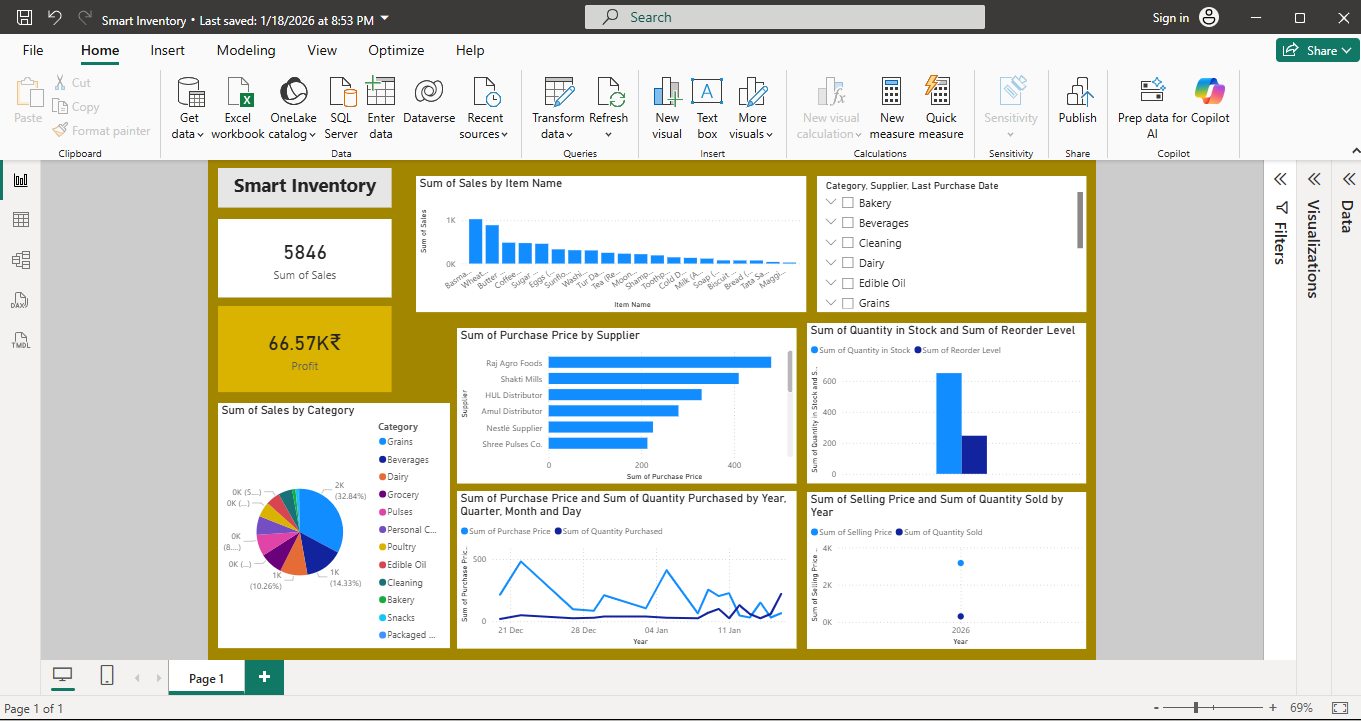

The page's visual inventory and layout, read from the dashboard file:
{"tool":"powerbi","page":{"name":"Page 1","canvas":[1280,720],"ordinal":0},"visuals":[{"type":"barChart","fields":{"Y":["Sum(Inventory Master.Purchase Price)"],"Category":["Inventory Master.Supplier"]},"box":[358.5,241.5,488.8,223.9],"z":0},{"type":"pieChart","fields":{"Y":["Sum(Inventory Master.total selse )"],"Category":["Inventory Master.Category"]},"box":[14.6,349.8,333.7,352.7],"z":1000},{"type":"lineStackedColumnComboChart","fields":{"Y":["Sum(Inventory Master.total selse )"],"Category":["Inventory Master.Item Name"]},"box":[300,23.4,562,196.1],"z":2000},{"type":"card","fields":{"Values":["Sum(Inventory Master.total selse )"]},"box":[14.6,84.9,250.2,112.7],"z":3000},{"type":"lineClusteredColumnComboChart","fields":{"Y":["Sum(Inventory Master.Quantity in Stock)","Sum(Inventory Master.Reorder Level)"]},"box":[862,234.1,402.4,231.2],"z":4000},{"type":"slicer","fields":{"Values":["Inventory Master.Category","Inventory Master.Supplier","Inventory Master.Last Purchase Date"]},"box":[876.6,23.4,387.8,196.1],"z":5000},{"type":"card","fields":{"Values":["Inventory Master.Profit"]},"box":[14.6,210.7,250.2,124.4],"z":6000},{"type":"lineChart","fields":{"Y":["Sum(Stock in.Purchase Price)","Sum(Stock in.Quantity Purchased)"],"Category":["Stock in.Date.Variation.Date Hierarchy.Year","Stock in.Date.Variation.Date Hierarchy.Quarter","Stock in.Date.Variation.Date Hierarchy.Month","Stock in.Date.Variation.Date Hierarchy.Day"]},"box":[358.5,477.1,488.8,226.8],"z":7000},{"type":"lineChart","fields":{"Category":["Stock out.Date.Variation.Date Hierarchy.Year","Stock out.Date.Variation.Date Hierarchy.Quarter","Stock out.Date.Variation.Date Hierarchy.Month","Stock out.Date.Variation.Date Hierarchy.Day"],"Y":["Sum(Stock out.Selling Price)","Sum(Stock out.Quantity Sold)"]},"box":[862.6,478.1,401.8,226.1],"z":8000},{"type":"textbox","box":[14.6,11.7,250.2,57.1],"z":9000}]}

Visuals, with their boxes on the page's 1280x720 design canvas (x1, y1, x2, y2). These are canvas units, not pixel positions in the 1361x721 screenshot, which may show the page scaled, cropped or inside an application window:
barChart - Sum(Inventory Master.Purchase Price) x Inventory Master.Supplier: 358, 242, 847, 465
pieChart - Sum(Inventory Master.total selse ) x Inventory Master.Category: 15, 350, 348, 702
lineStackedColumnComboChart - Sum(Inventory Master.total selse ) x Inventory Master.Item Name: 300, 23, 862, 220
card - Sum(Inventory Master.total selse ): 15, 85, 265, 198
lineClusteredColumnComboChart - Sum(Inventory Master.Quantity in Stock) x Sum(Inventory Master.Reorder Level): 862, 234, 1264, 465
slicer - Inventory Master.Category x Inventory Master.Supplier: 877, 23, 1264, 220
card - Inventory Master.Profit: 15, 211, 265, 335
lineChart - Sum(Stock in.Purchase Price) x Sum(Stock in.Quantity Purchased): 358, 477, 847, 704
lineChart - Stock out.Date.Variation.Date Hierarchy.Year x Stock out.Date.Variation.Date Hierarchy.Quarter: 863, 478, 1264, 704
textbox: 15, 12, 265, 69
